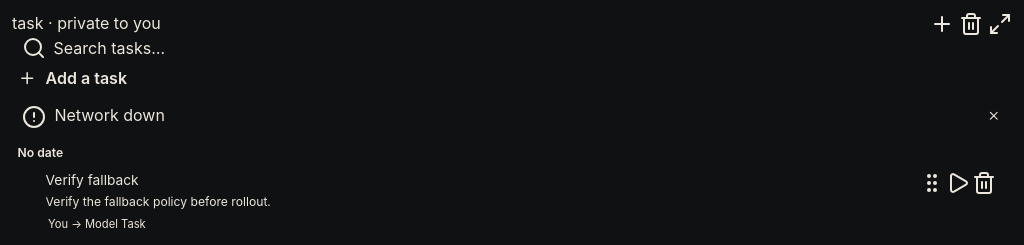
Test: TaskDock › keeps the last tasks visible with a dismissible notice when a refresh fails
This screenshot has width=1024, height=245.
Expected: the message reads "Network down", [54,105,165,125]
Expected: the button "Verify the fallback policy before rollout." is shown, [46,193,910,210]
Click the button named "Dismiss message". click: [994, 116]
box: [982,104,1006,128]
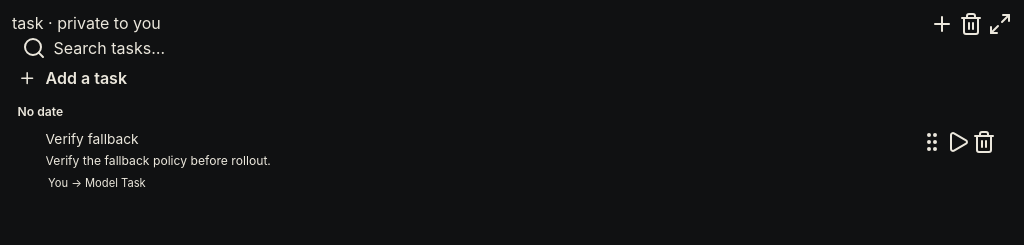
Now the message "Network down" is gone
